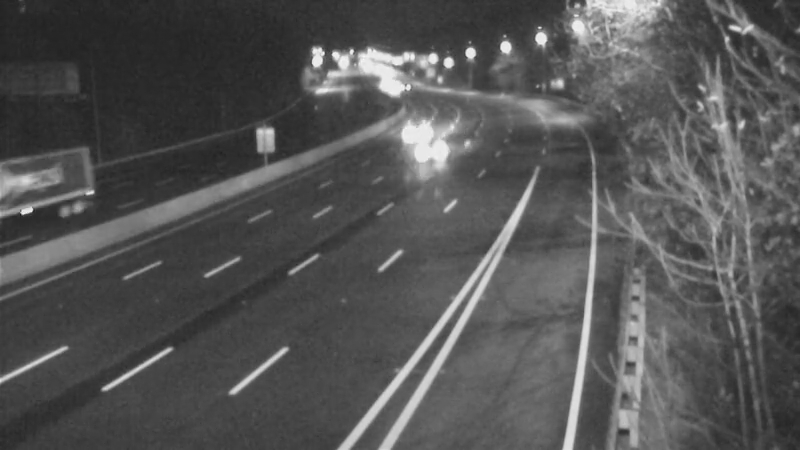vehicle: (1, 153, 78, 233), (377, 60, 427, 110), (395, 107, 445, 157), (405, 124, 455, 174)
